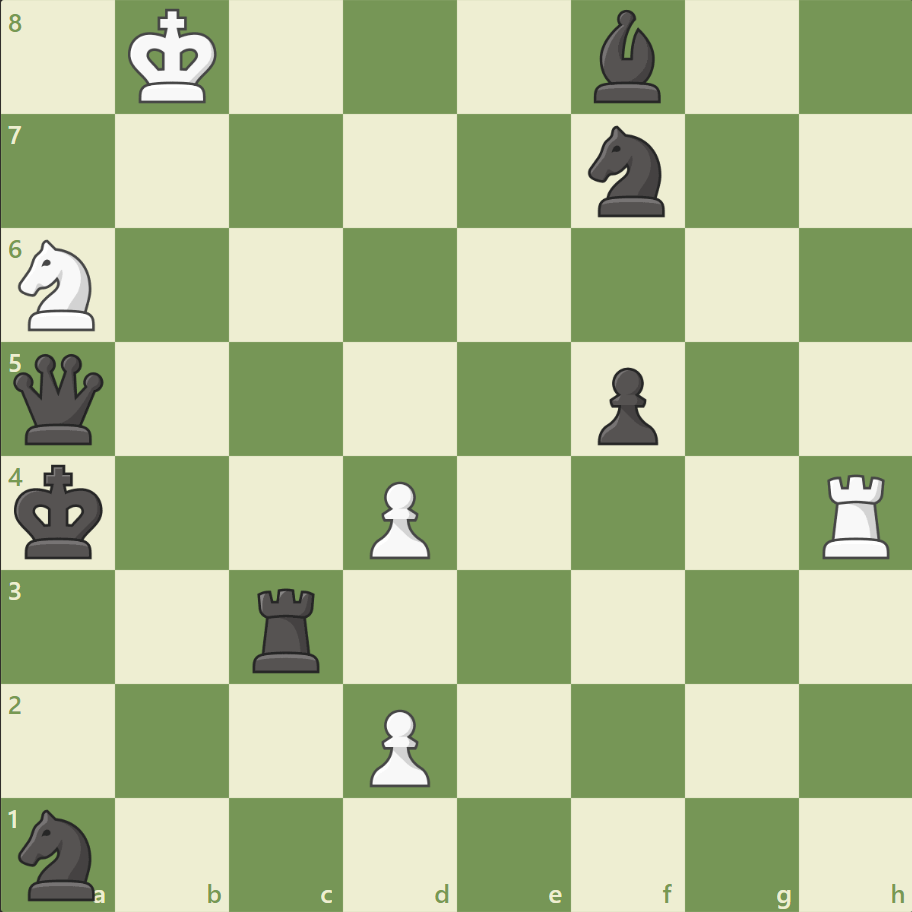K: (124, 4, 224, 112)
N: (11, 234, 108, 337)
P: (361, 473, 435, 564), (361, 700, 435, 791)
R: (814, 466, 897, 563)
b: (585, 6, 669, 109)
k: (11, 458, 111, 566)
n: (579, 121, 676, 223), (11, 802, 108, 904)
p: (588, 359, 662, 450)
q: (10, 349, 109, 449)
r: (246, 579, 329, 676)
